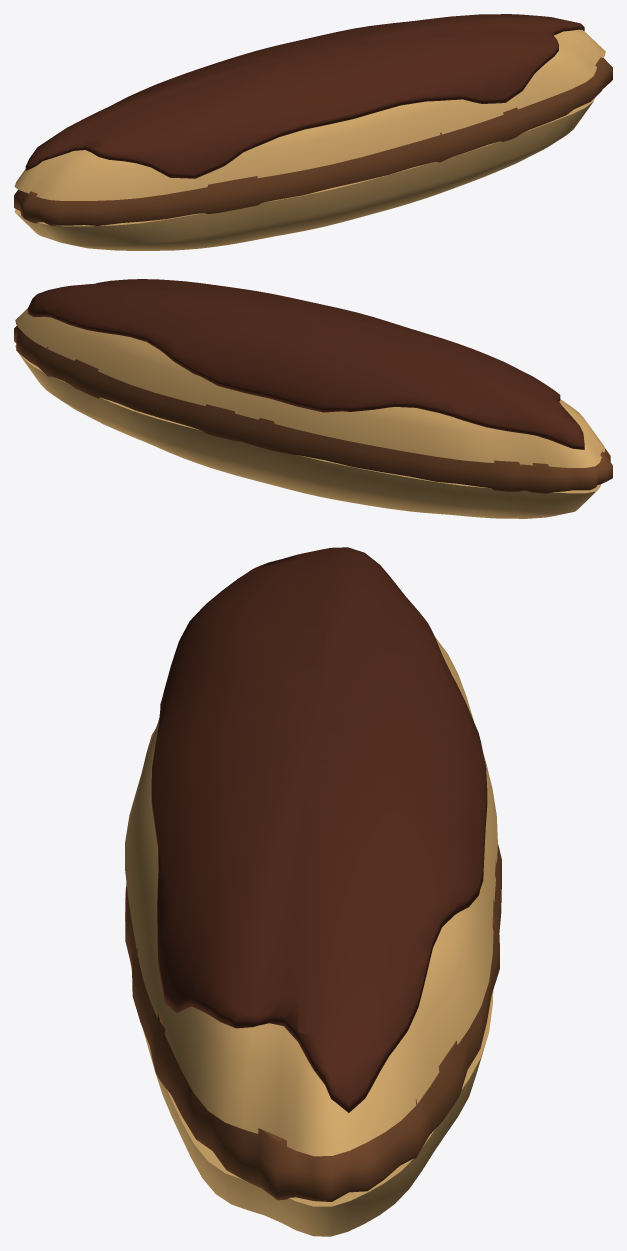
The picture shows the model from 3 angles, top to bottom: view 1: azimuth 30°, elevation 25°; view 2: azimuth 150°, elevation 25°; view 3: azimuth 270°, elevation 25°; orthographic projection. The views are drawn at different scales.
Parts seen in each view (by area): view 1: Thick glaze with scalloped dripping edge, Upper choux shell, Lower choux shell, Visible piped filling band; view 2: Thick glaze with scalloped dripping edge, Upper choux shell, Lower choux shell, Visible piped filling band; view 3: Thick glaze with scalloped dripping edge, Upper choux shell, Visible piped filling band, Lower choux shell.
Part boxes in pixels (box(x1,y1,x2,y2)): Thick glaze with scalloped dripping edge: box(25, 14, 584, 178); Upper choux shell: box(14, 29, 605, 200); Lower choux shell: box(14, 97, 595, 250); Visible piped filling band: box(14, 57, 612, 225); Thick glaze with scalloped dripping edge: box(27, 279, 584, 449); Upper choux shell: box(15, 308, 604, 467); Lower choux shell: box(15, 345, 601, 518); Visible piped filling band: box(14, 326, 612, 493); Thick glaze with scalloped dripping edge: box(151, 547, 487, 1112); Upper choux shell: box(125, 637, 497, 1156); Visible piped filling band: box(125, 729, 501, 1201); Lower choux shell: box(125, 888, 493, 1236).
Size of the model in its own units: 0.1825 by 0.049 by 0.0507.
